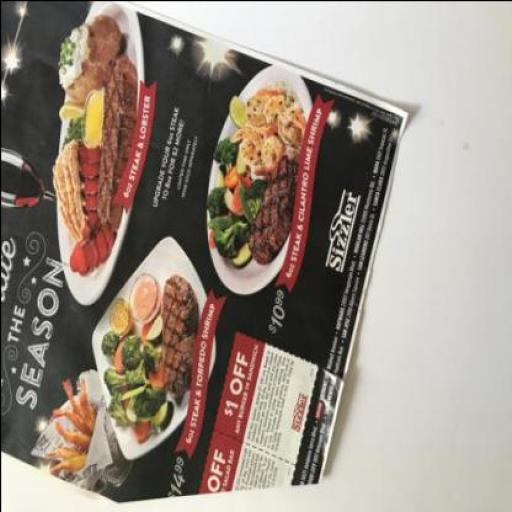paper: (1, 1, 405, 505)
